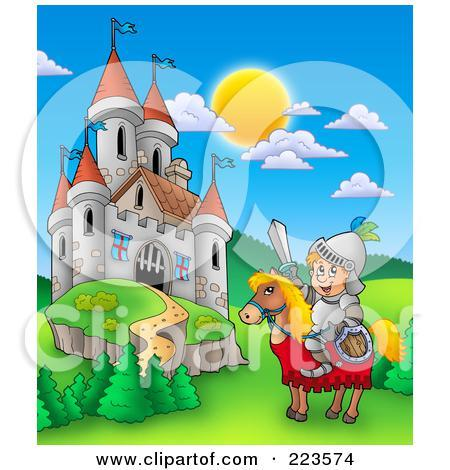horse: (225, 269, 395, 428)
person: (297, 227, 367, 371)
